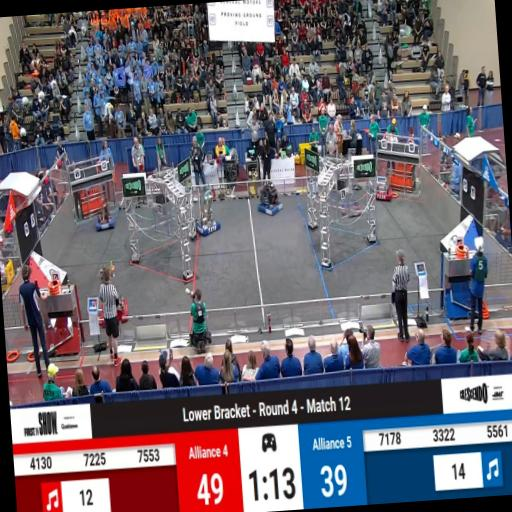robot: (86, 261, 134, 330), (196, 198, 222, 238), (258, 183, 283, 217), (94, 204, 116, 232), (374, 178, 396, 202)
